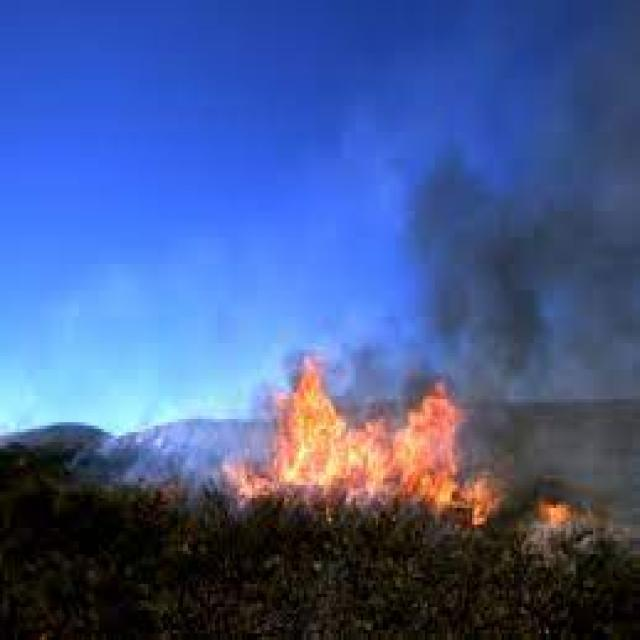Fire: (222, 355, 502, 539), (538, 498, 572, 526)
Smoke: (321, 9, 640, 352)
